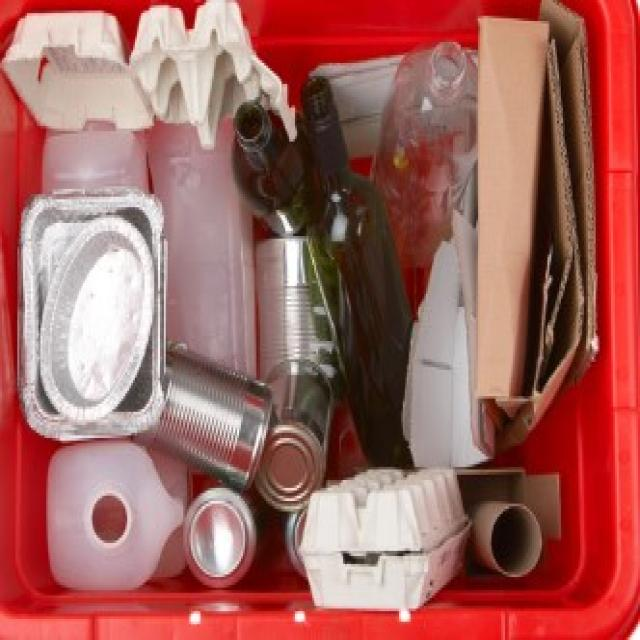electronic: (300, 70, 453, 492)
